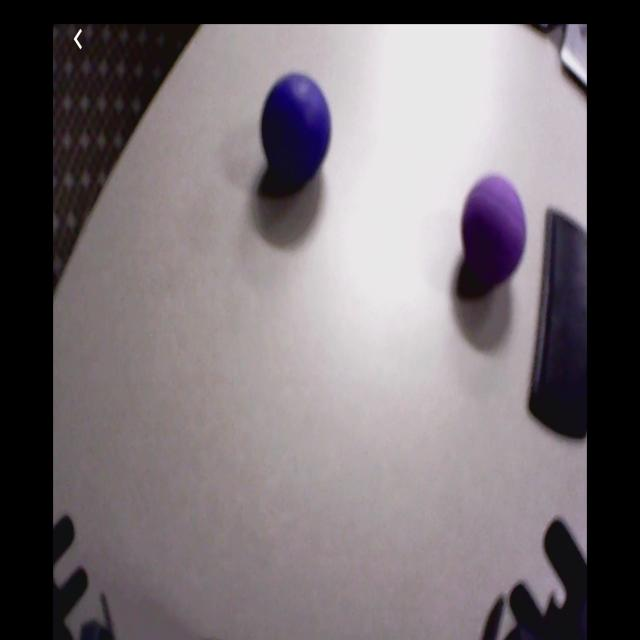ball: (263, 70, 332, 183), (462, 175, 529, 287)
